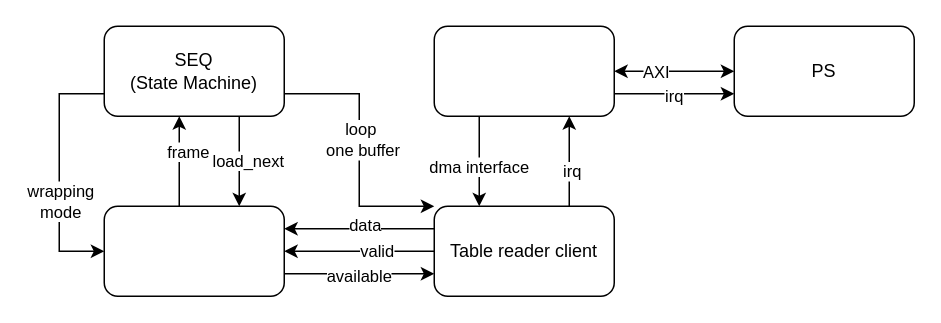
Some shapes in this 941 by 323 pixel diagram are drawn without their labels. The centre of each missing label's shape, as x and y in pixels:
RING TABLE (FIFO): point 193,250
Table reader (Arbiter): point 523,70
